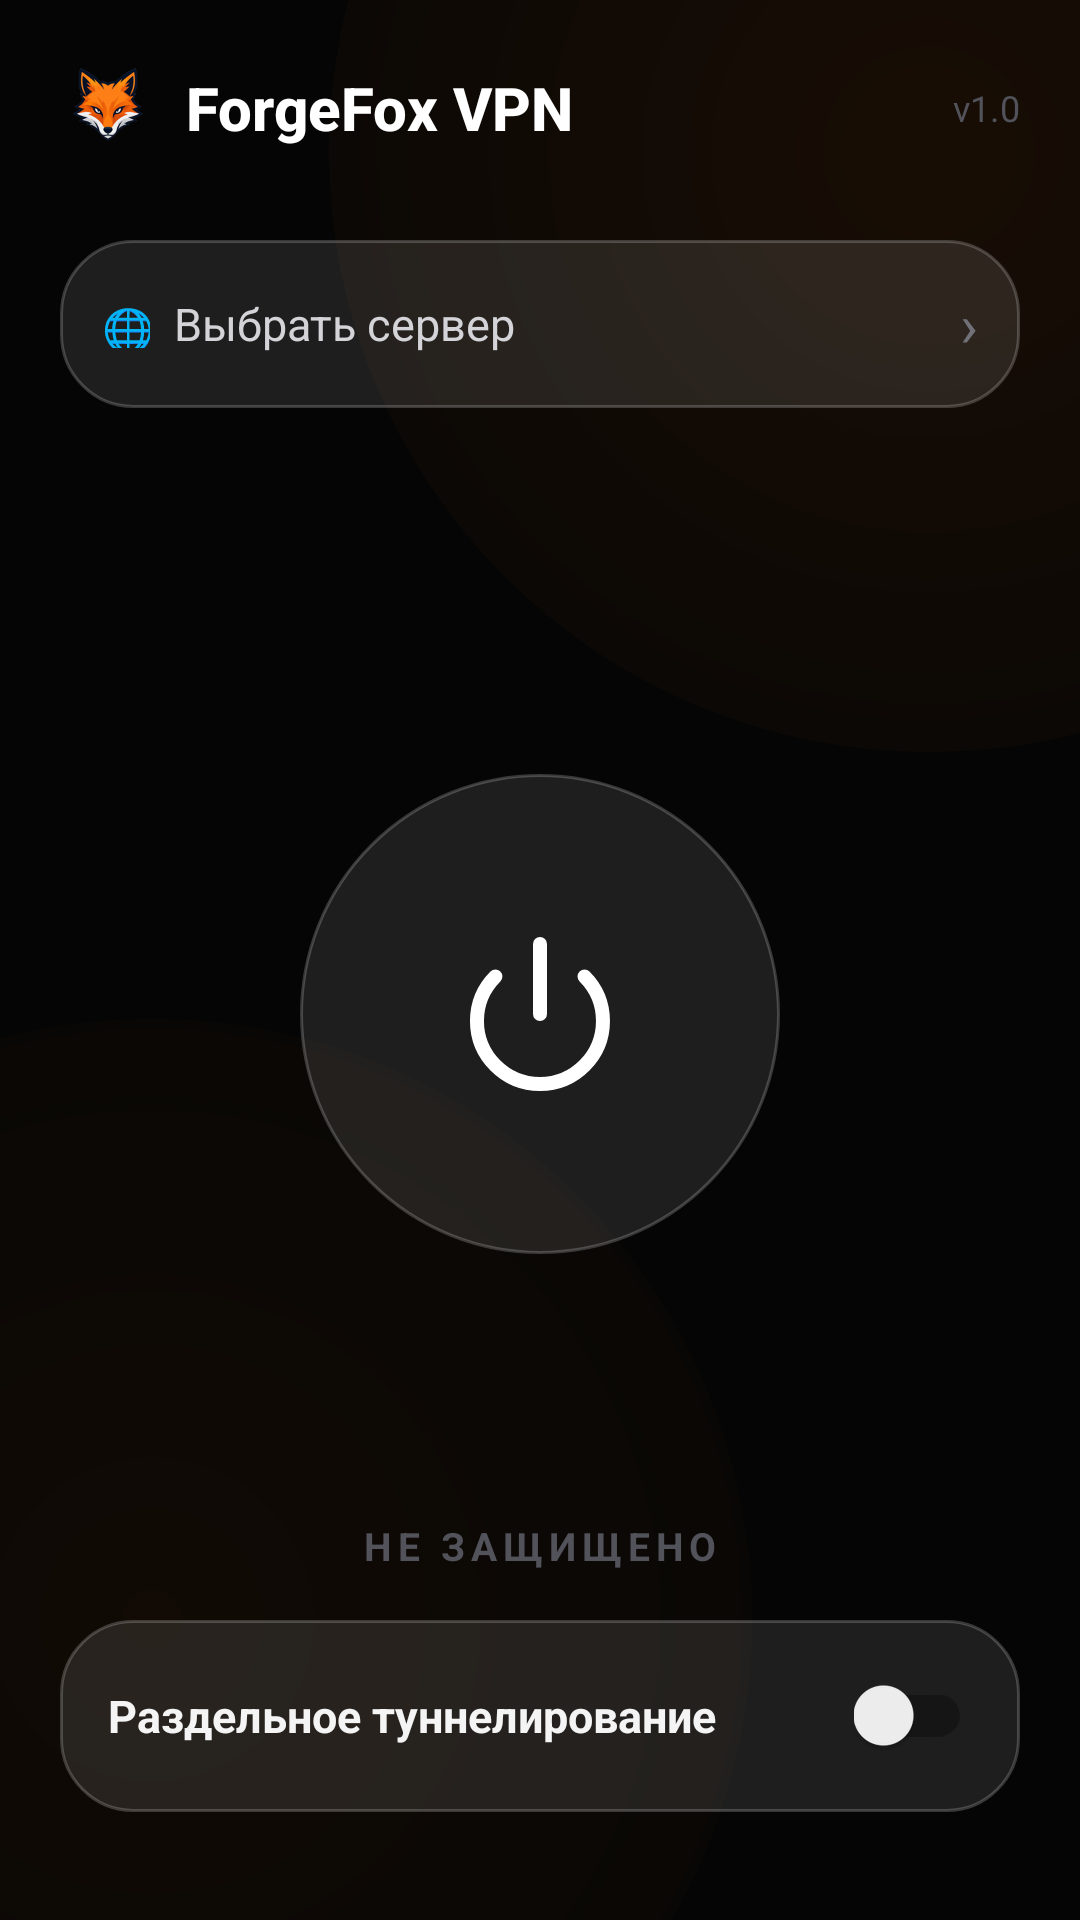

Named icons in this screenshot (1080×1920) and their bounding boxes, bbox=[x1, y1, x2, y2]:
power: bbox=[470, 937, 610, 1091]
